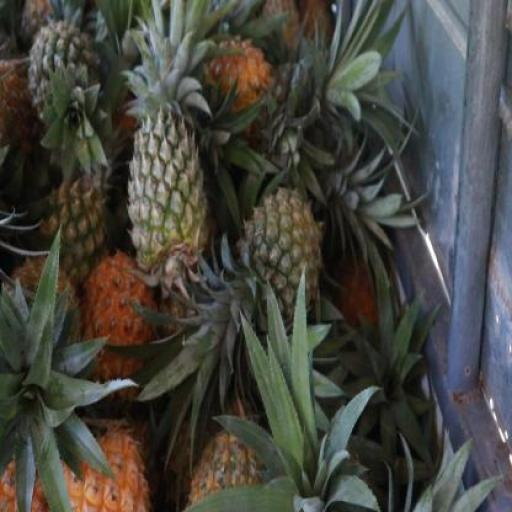Pineapple - v8 v1: (78, 249, 153, 398), (50, 419, 157, 512), (198, 36, 278, 119)
